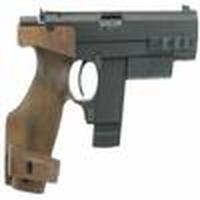gun: (8, 12, 191, 189)
